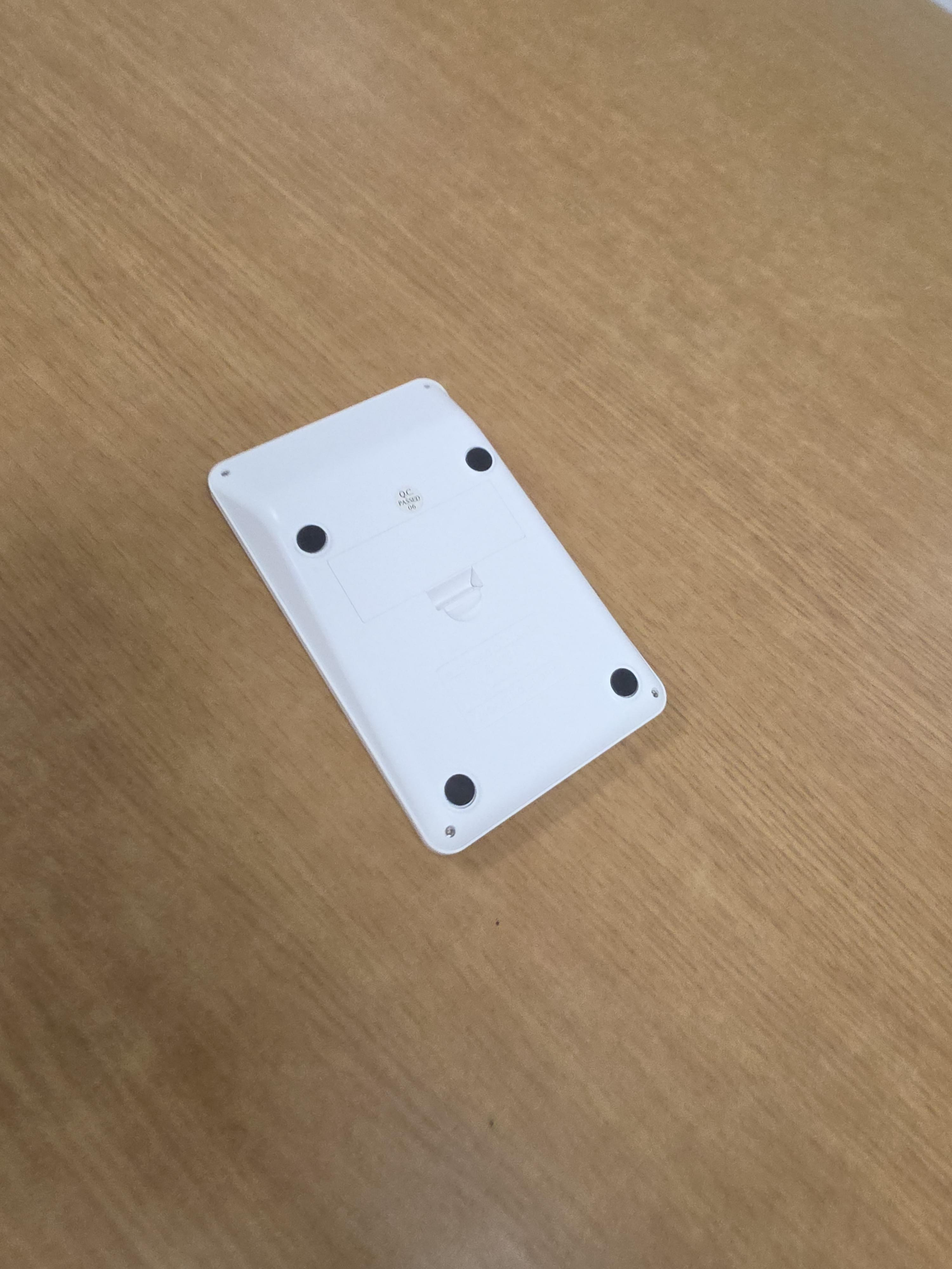calculator: (207, 377, 668, 856)
